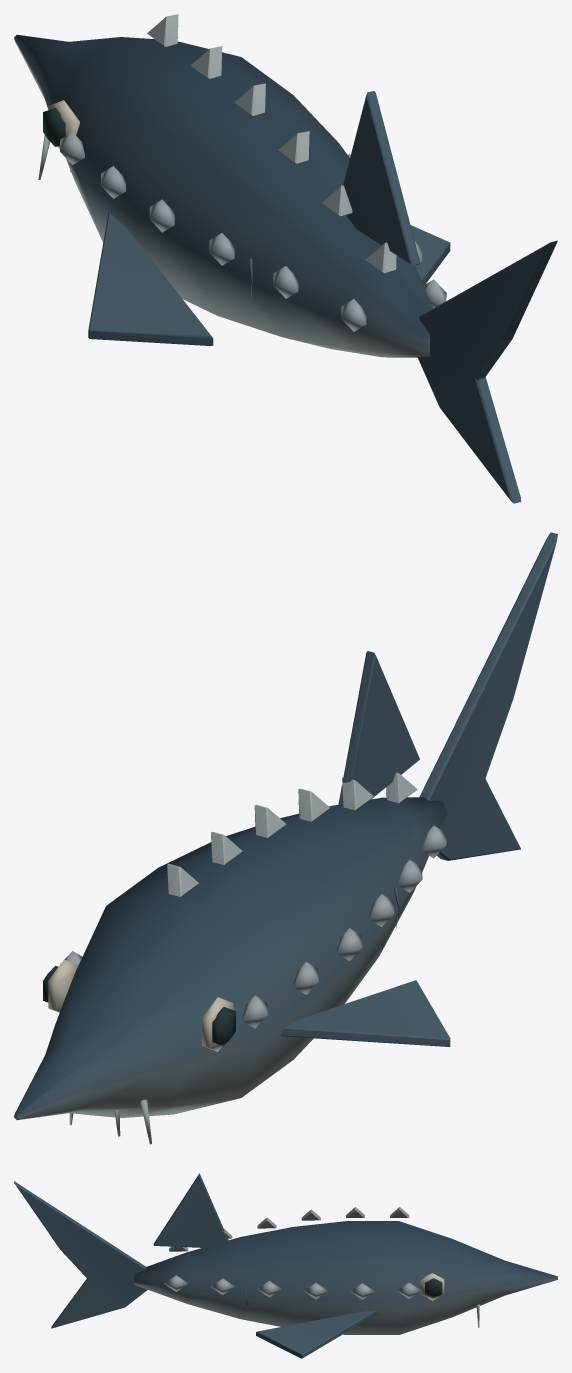
Rendered from fish_sturgeon_low.glb.
3 views of the same model, one above another, from view 1: azimuth 30°, elevation 25°; view 2: azimuth 150°, elevation 25°; view 3: azimuth 270°, elevation 25° (orthographic). The views are drawn at different scales.
Bounding box in the file's own units: 0.4265 × 0.359 × 1.1.
